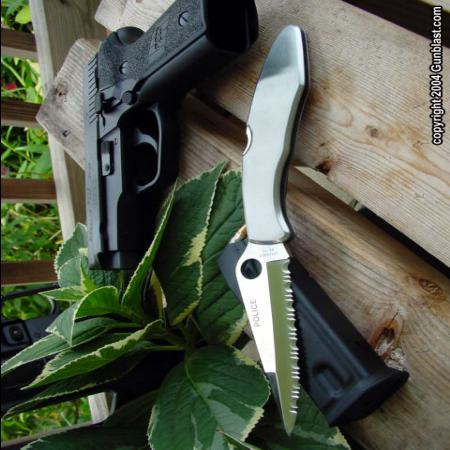long weapon: (230, 246, 305, 443)
